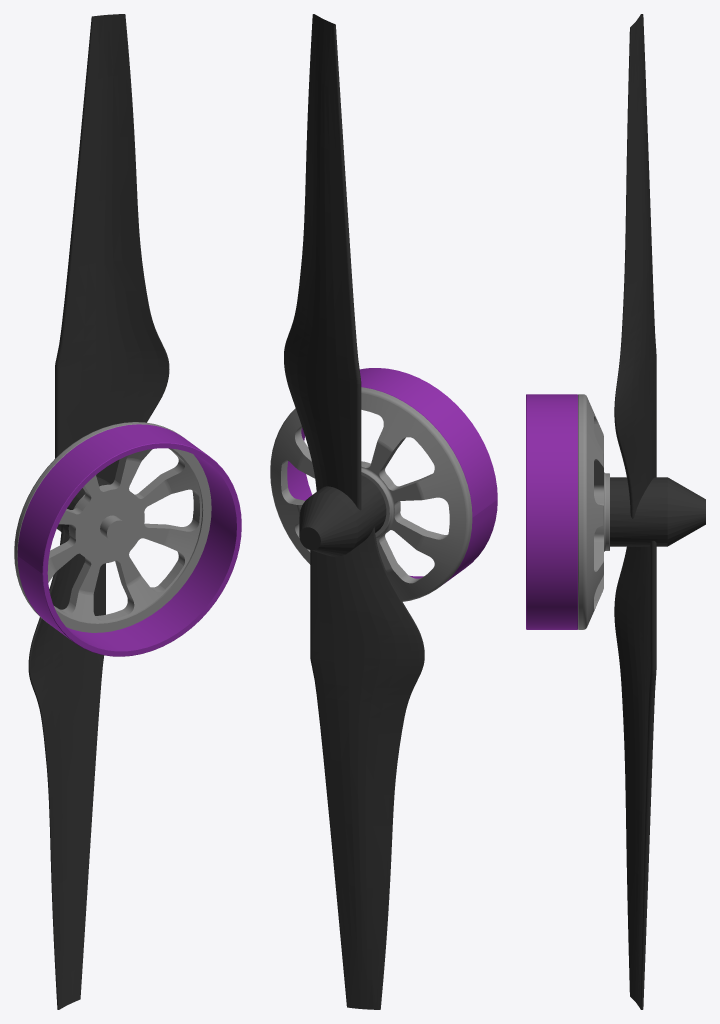
The model's file is prop_br.dae.
The picture shows the model from 3 angles, left to right: view 1: azimuth 30°, elevation 25°; view 2: azimuth 150°, elevation 25°; view 3: azimuth 270°, elevation 25°; orthographic projection. The views are drawn at different scales.
Visible parts, largest first — view 1: tmp_export_Body1.006; view 2: tmp_export_Body1.006; view 3: tmp_export_Body1.006.
Part boxes in pixels (x1,y1,x2,y2): tmp_export_Body1.006: (14,14,241,1009); tmp_export_Body1.006: (270,14,497,1009); tmp_export_Body1.006: (526,14,705,1009).
Size of the model in its own units: 5.9 by 4.5 by 27.68.
